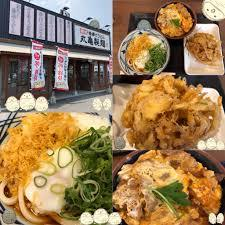kakiage: (129, 79, 212, 149)
